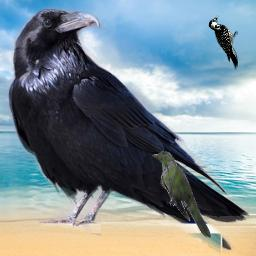Crow: (8, 7, 250, 253)
Cuckoo: (152, 151, 214, 239)
Woodpecker: (208, 15, 238, 70)
